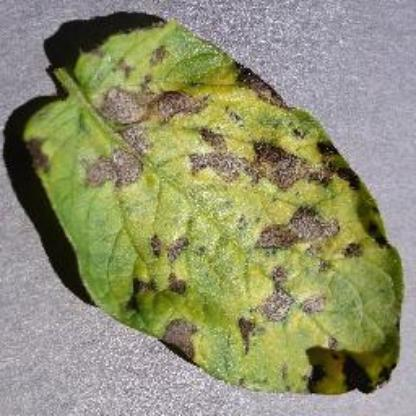Early-Blight: (17, 18, 406, 394)
